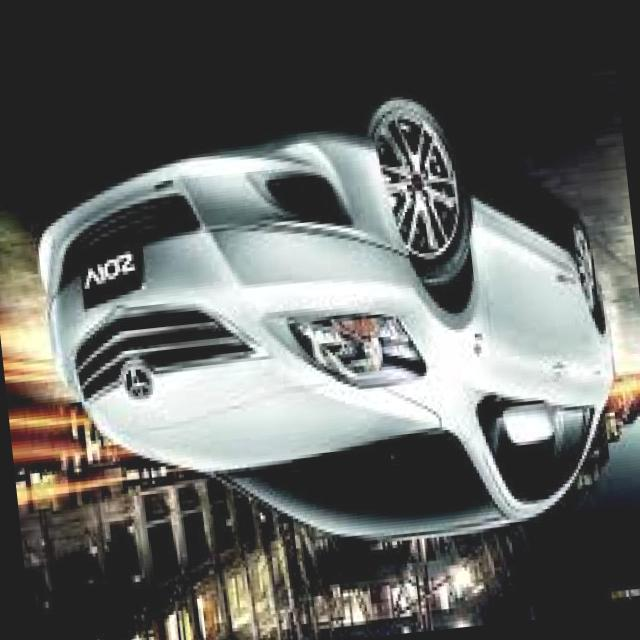ToyotaVios: (22, 77, 630, 579)
